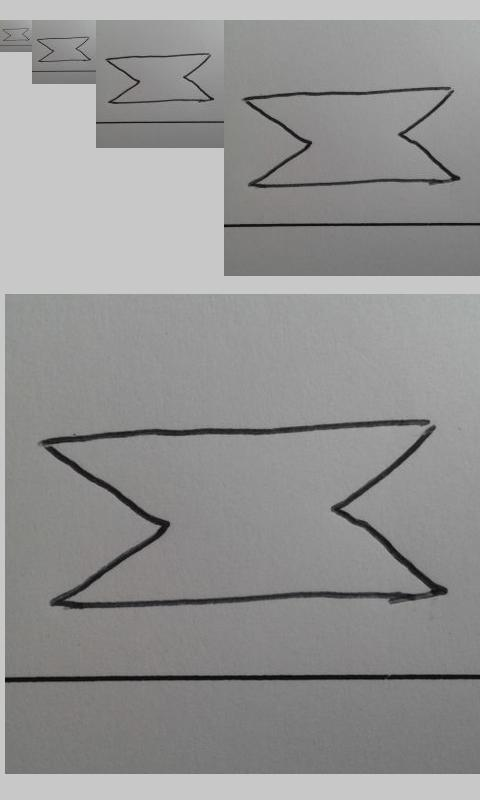edit_text: (42, 417, 442, 612), (243, 86, 460, 189), (104, 53, 214, 104), (36, 37, 90, 63), (2, 28, 29, 41)
